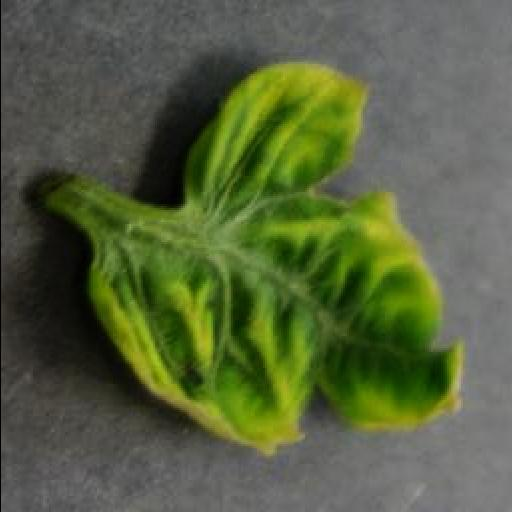disease_tomato: (87, 61, 465, 459)
